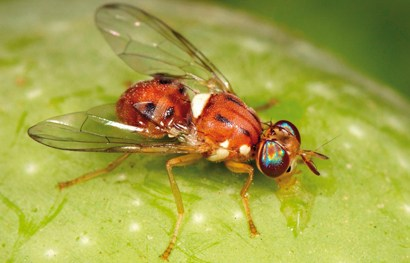Fruit fly: (41, 18, 314, 244)
